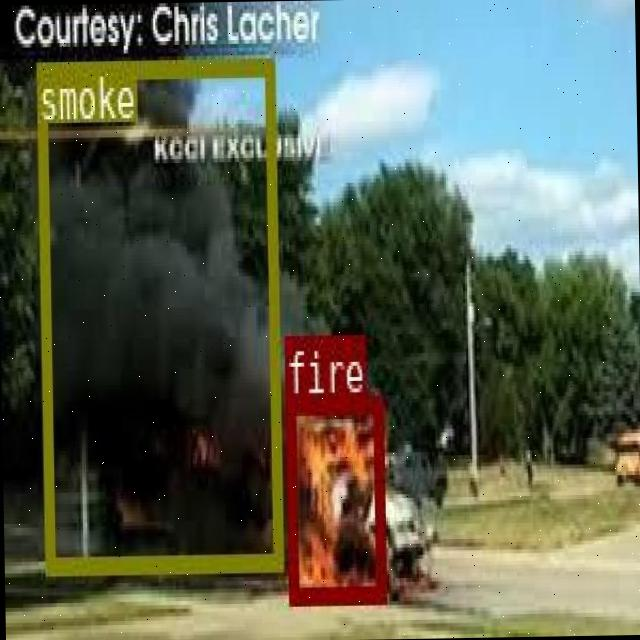fire: (283, 394, 383, 602)
smoke: (35, 58, 282, 573)
